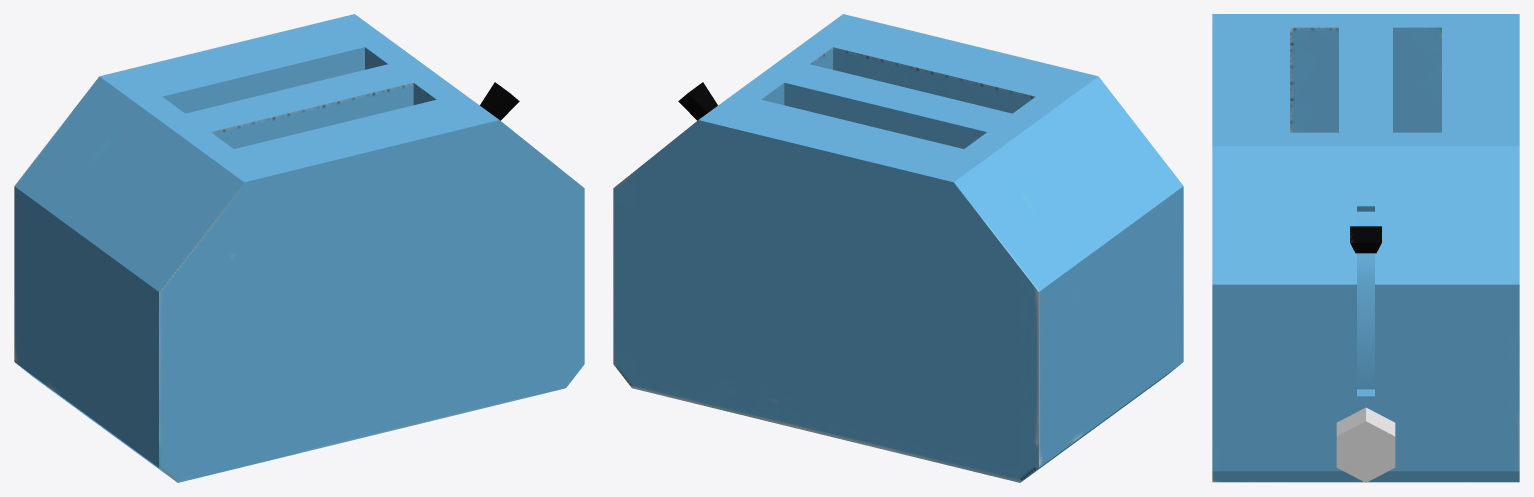
The model's file is toaster01.fbx.
The picture shows the model from 3 angles, left to right: view 1: azimuth 30°, elevation 25°; view 2: azimuth 150°, elevation 25°; view 3: azimuth 270°, elevation 25°; orthographic projection. The views are drawn at different scales.
Visible parts, largest first — view 1: toaster01; view 2: toaster01; view 3: toaster01.
Part boxes in pixels (x1,y1,x2,y2): toaster01: (14,14,584,482); toaster01: (613,14,1183,482); toaster01: (1212,14,1519,482).
Size of the model in its own units: 2.63 by 1.65 by 1.46.
